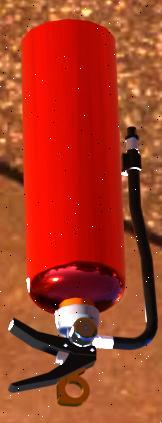Fire Extinguisher: (1, 18, 162, 409)
